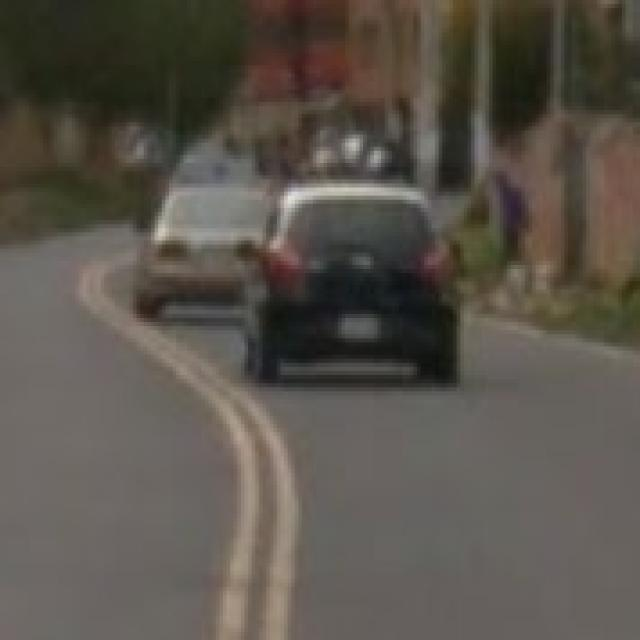cars: (288, 175, 463, 398), (140, 170, 267, 316)
